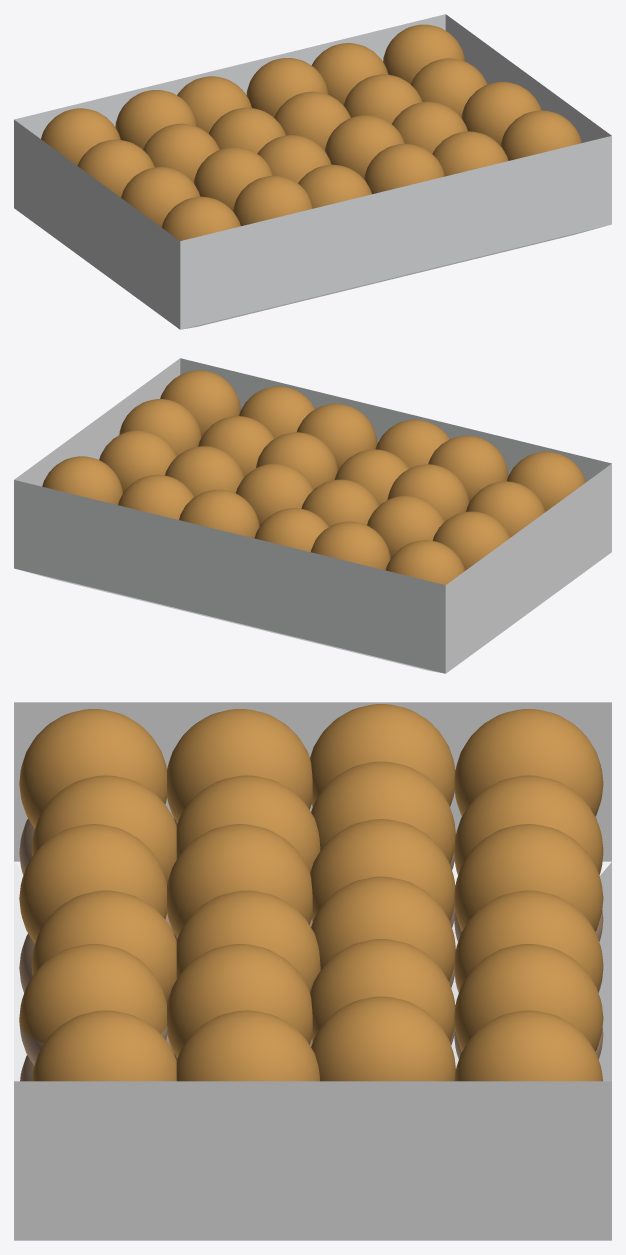
The model's file is nugget-bulat.glb.
3 views of the same model, one above another, from view 1: azimuth 30°, elevation 25°; view 2: azimuth 150°, elevation 25°; view 3: azimuth 270°, elevation 25° (orthographic). The views are drawn at different scales.
Visible parts, largest first — view 1: Sphere.059; view 2: Sphere.059; view 3: Sphere.059.
Boxes of the visible parts, left/top/right/bottom form: Sphere.059: left=14, top=14, right=611, bottom=329; Sphere.059: left=14, top=358, right=611, bottom=673; Sphere.059: left=14, top=702, right=611, bottom=1240.
Bounding box in the file's own units: 0.18 × 0.046 × 0.12.
